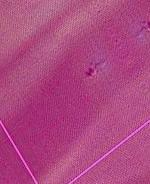knot: (81, 62, 105, 83), (138, 18, 150, 41)
